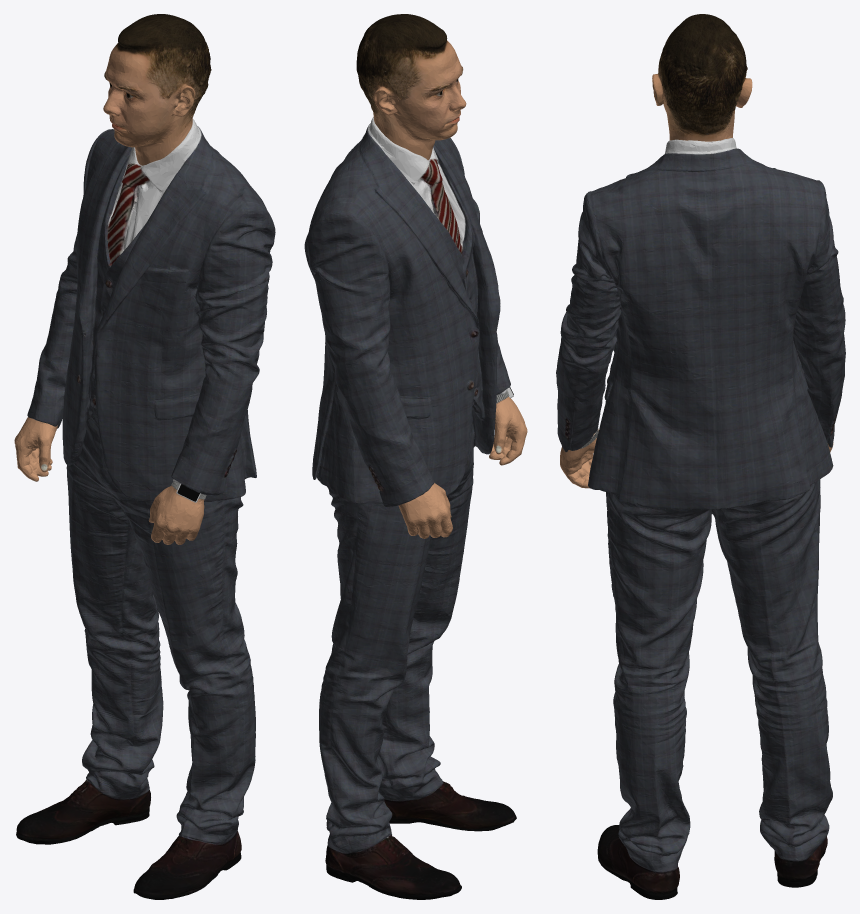
The model's file is lawyer.glb.
The picture shows the model from 3 angles, left to right: view 1: azimuth 30°, elevation 25°; view 2: azimuth 150°, elevation 25°; view 3: azimuth 270°, elevation 25°; orthographic projection. The views are drawn at different scales.
Parts seen in each view (by area): view 1: empty_3; view 2: empty_3; view 3: empty_3.
Part boxes in pixels (box(x1,y1,x2,y2)): empty_3: box(14, 14, 275, 899); empty_3: box(304, 14, 527, 899); empty_3: box(556, 14, 845, 899).
Bounding box in the file's own units: 39.32 × 183 × 56.52.
Materials: 4 (3 with a texture image).
